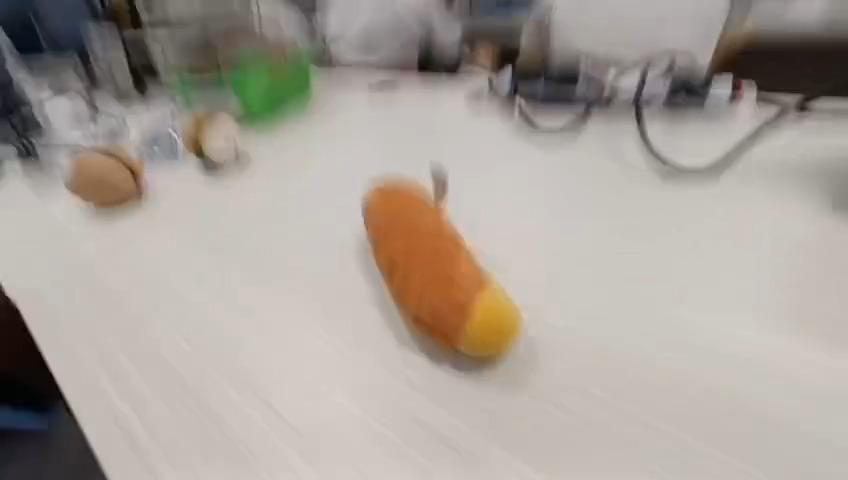hotdog: (360, 170, 522, 360)
